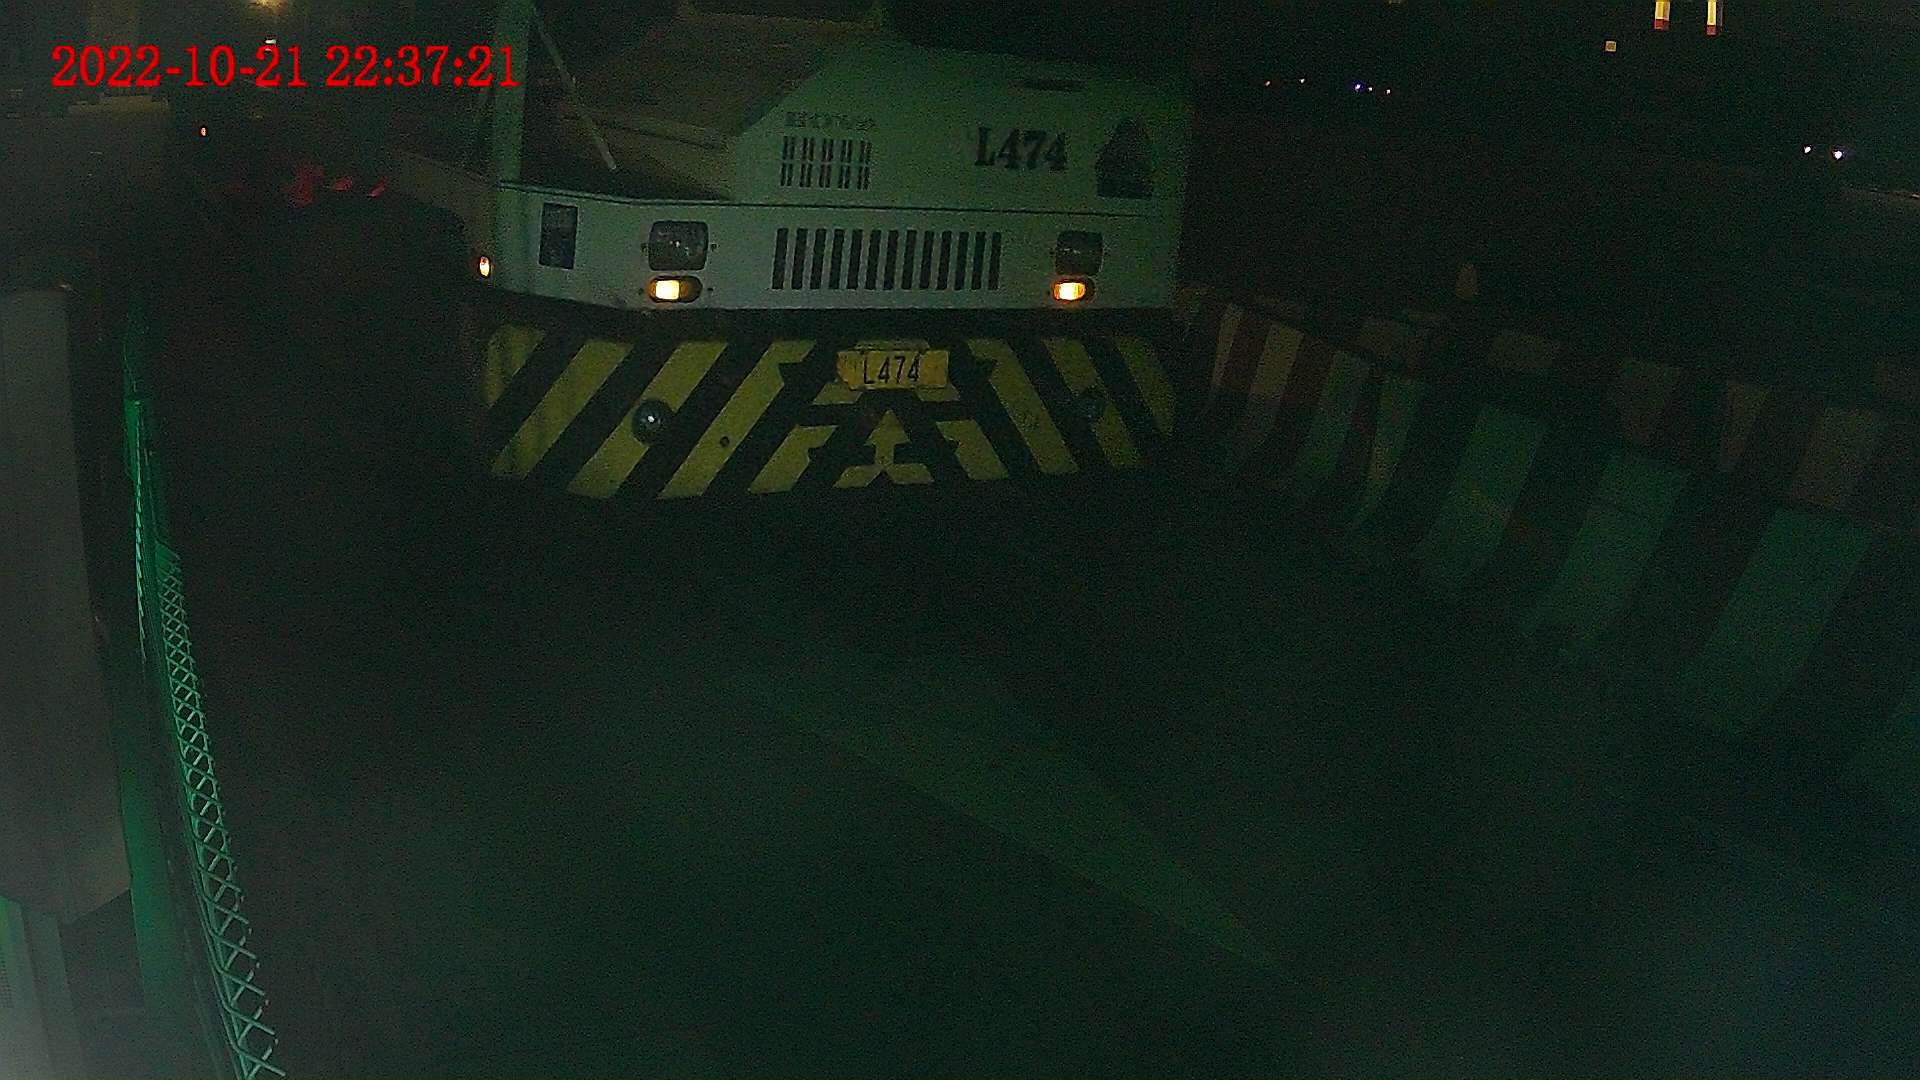head: (457, 1, 1197, 551)
plate: (835, 348, 951, 394)
